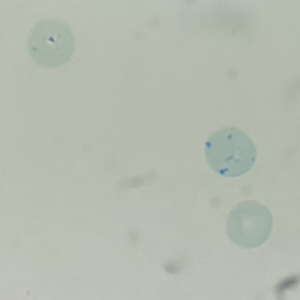aggregate reticulocyte: (204, 126, 258, 179)
erythrocyte: (224, 198, 274, 250)
punctate reticulocyte: (26, 17, 77, 68)
